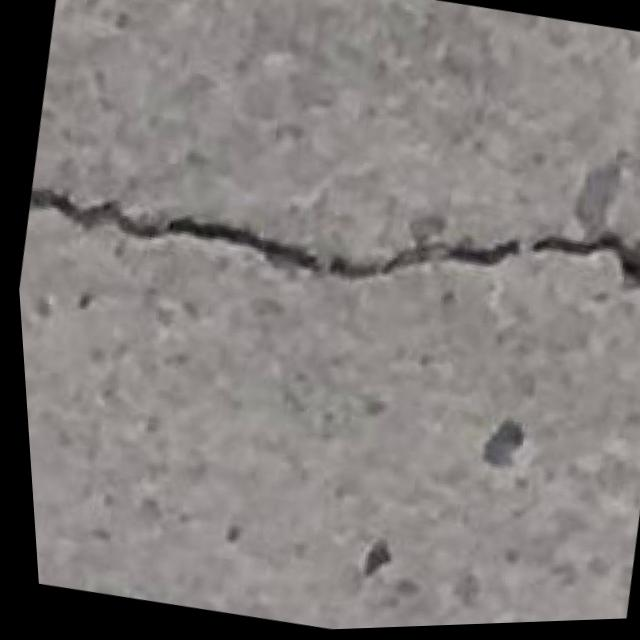Crack: (12, 101, 640, 381)
